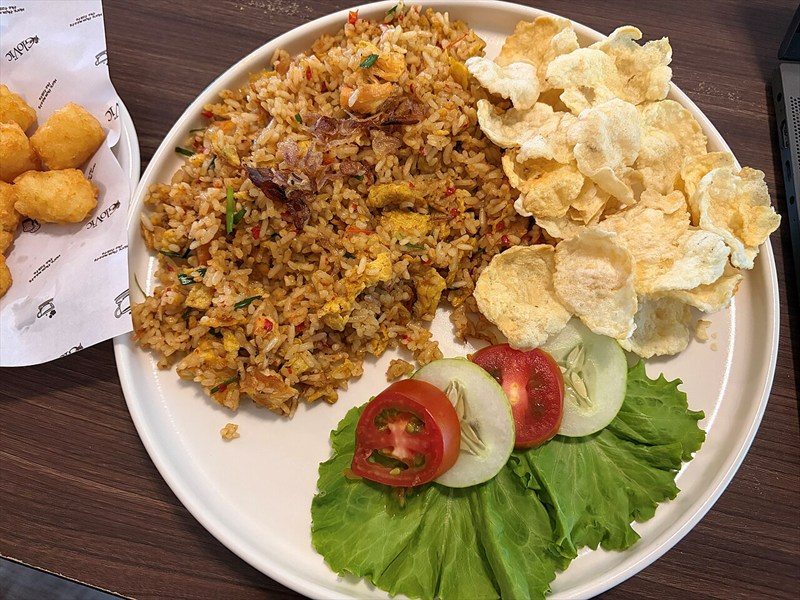Nasi Goreng: (92, 24, 738, 471)
